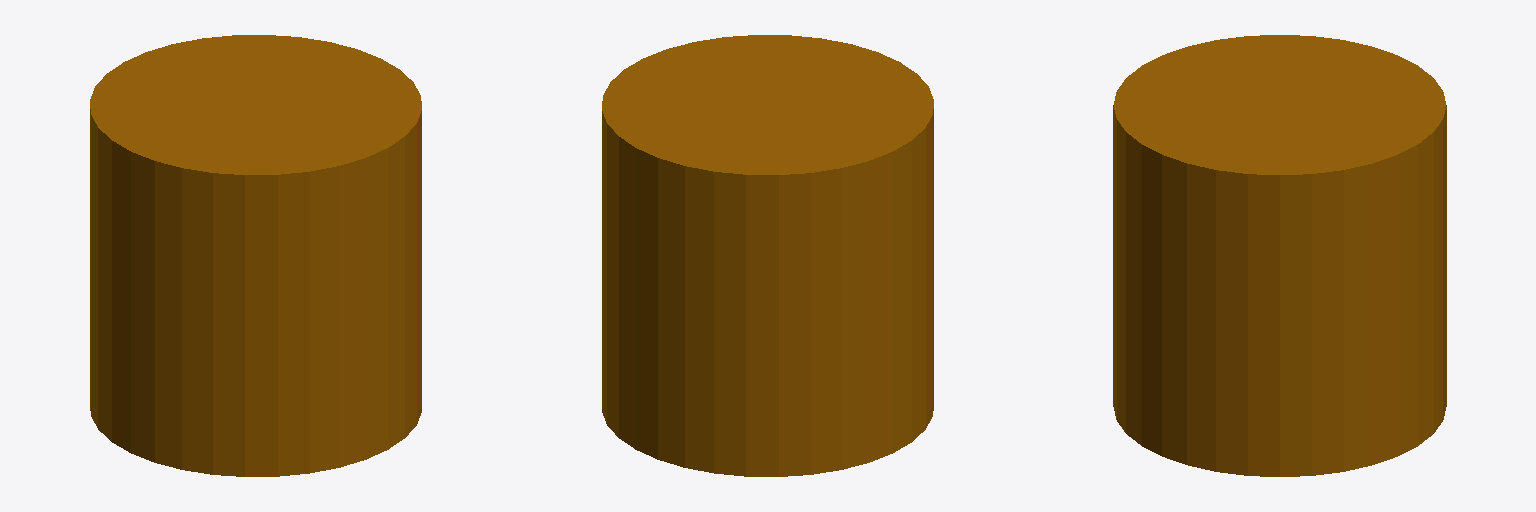
Rendered from bumper.obj.
The picture shows the model from 3 angles: view 1: azimuth 30°, elevation 25°; view 2: azimuth 150°, elevation 25°; view 3: azimuth 270°, elevation 25°; orthographic projection.
Parts seen in each view (by area): view 1: Cylinder; view 2: Cylinder; view 3: Cylinder.
Part boxes in pixels (x1,y1,x2,y2): Cylinder: (90, 35, 421, 476); Cylinder: (602, 35, 933, 476); Cylinder: (1113, 35, 1446, 476).
Bounding box in the file's own units: 1.6 × 1.6 × 1.6.